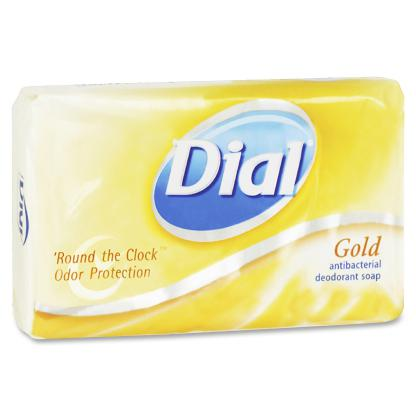soap: (11, 73, 409, 343)
